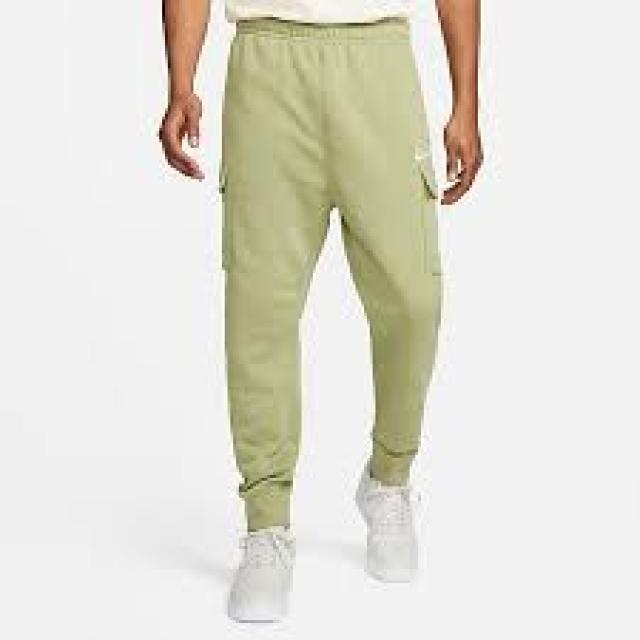pants: (218, 14, 441, 529)
